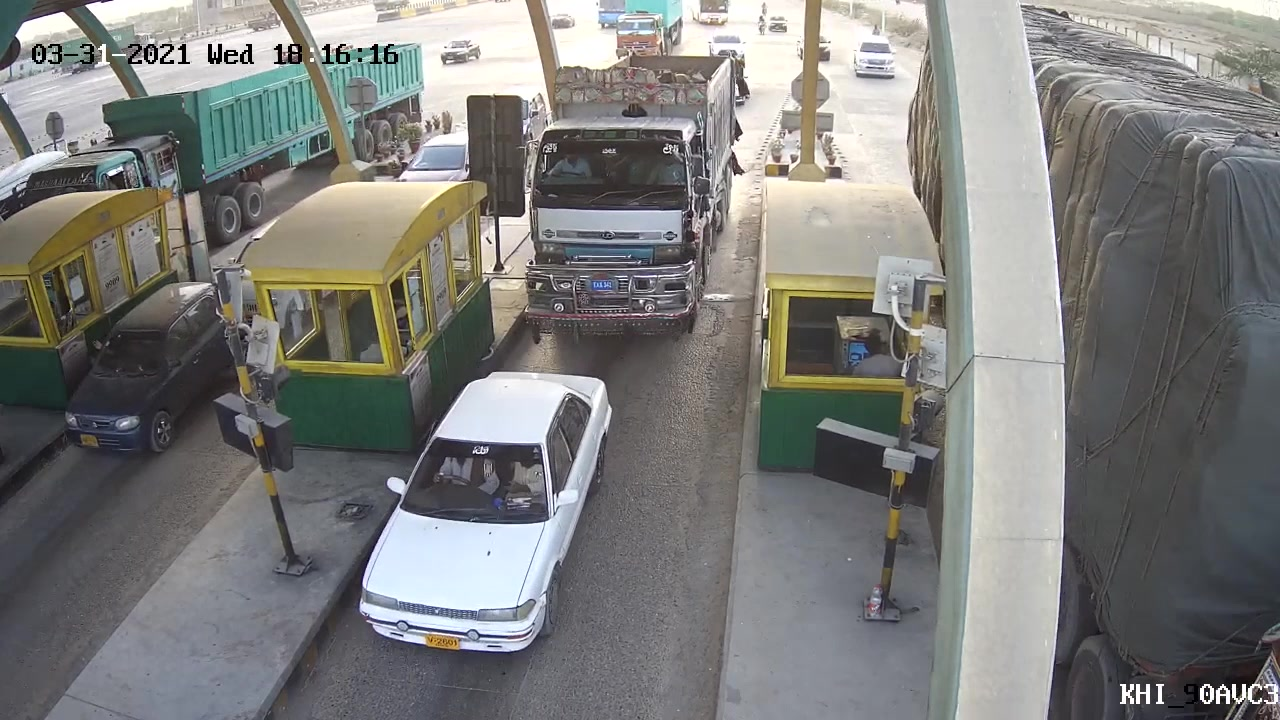F1: (349, 363, 624, 661)
F5: (506, 56, 752, 349)
